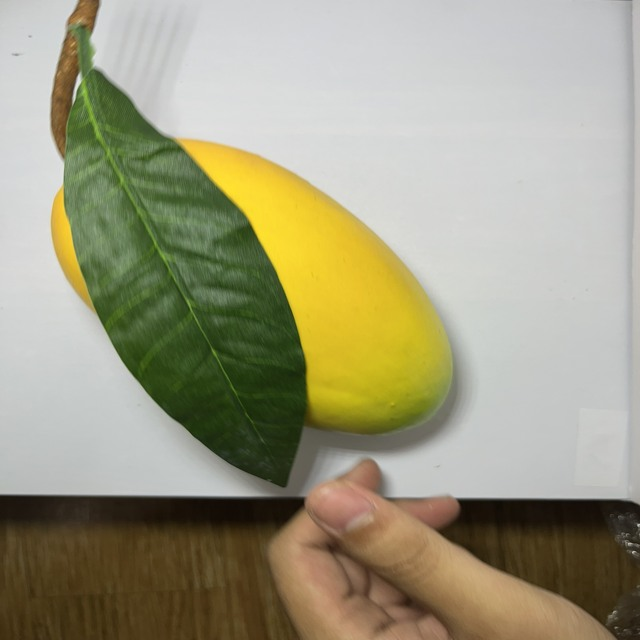Xoai: (10, 53, 509, 532)
